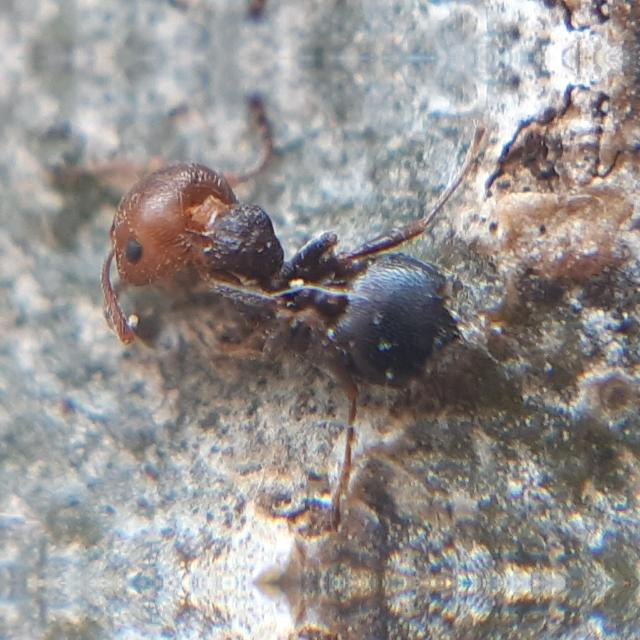Crematogaster: (88, 146, 436, 380)
